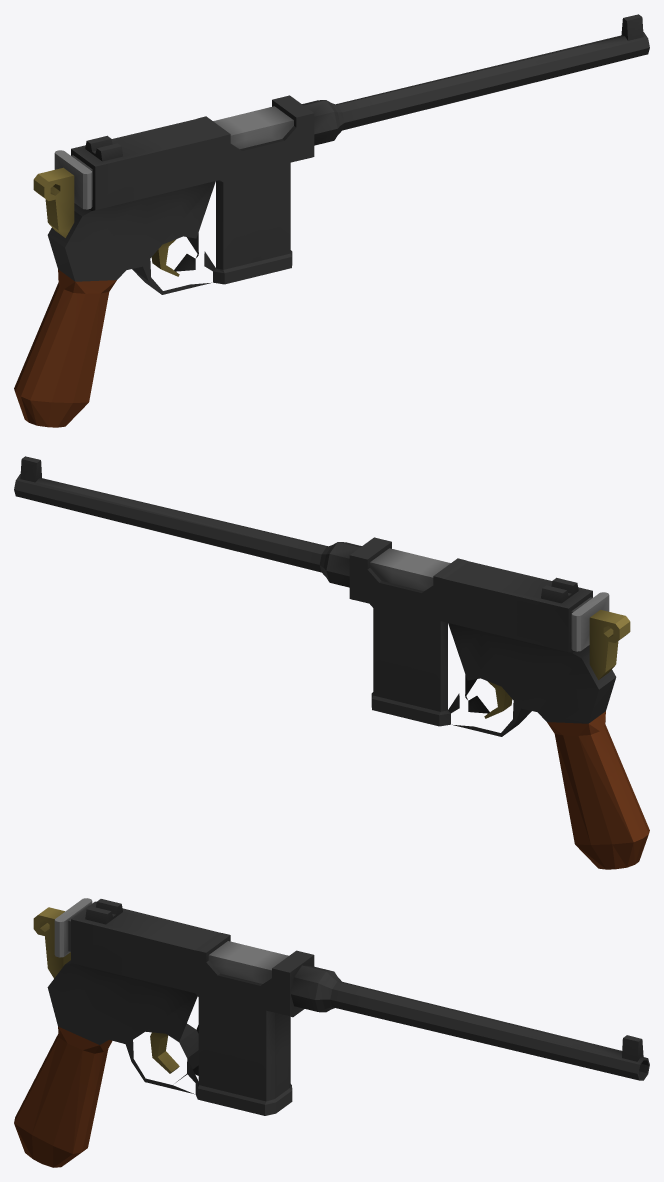
File: v-msr-c96-long.glb
The picture shows the model from 3 angles, top to bottom: view 1: azimuth 30°, elevation 25°; view 2: azimuth 150°, elevation 25°; view 3: azimuth 330°, elevation 25°; orthographic projection.
Visible parts, largest first — view 1: body; view 2: body; view 3: body.
Boxes of the visible parts, bbox=[...] form: body: bbox=[14, 14, 649, 427]; body: bbox=[14, 456, 649, 869]; body: bbox=[14, 898, 649, 1167].
Bounding box in the file's own units: 0.242 × 0.0994 × 0.0211.
